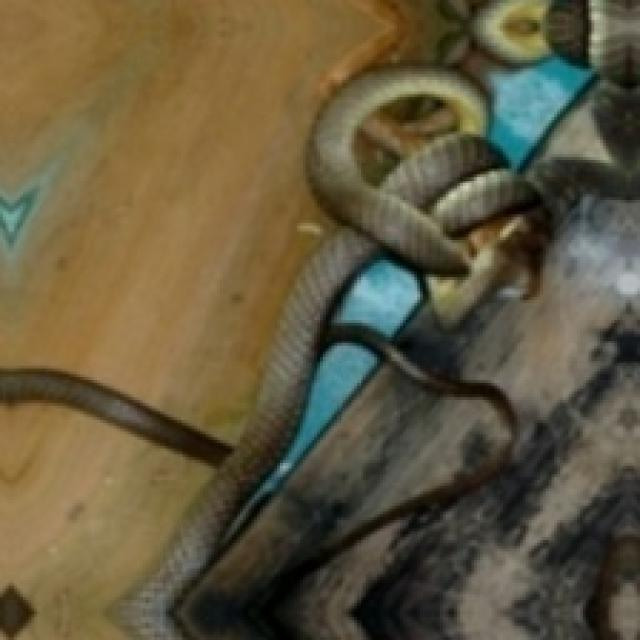paradise tree snake: (0, 0, 451, 440), (0, 406, 209, 637)
